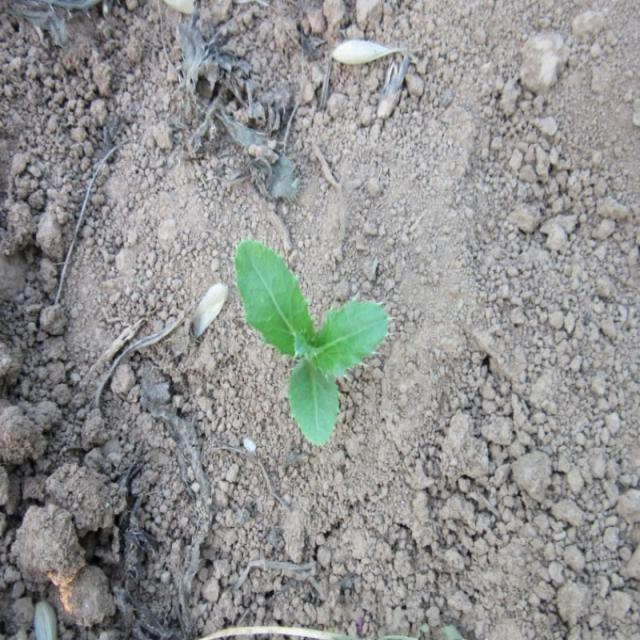cs: (234, 235, 394, 452)
